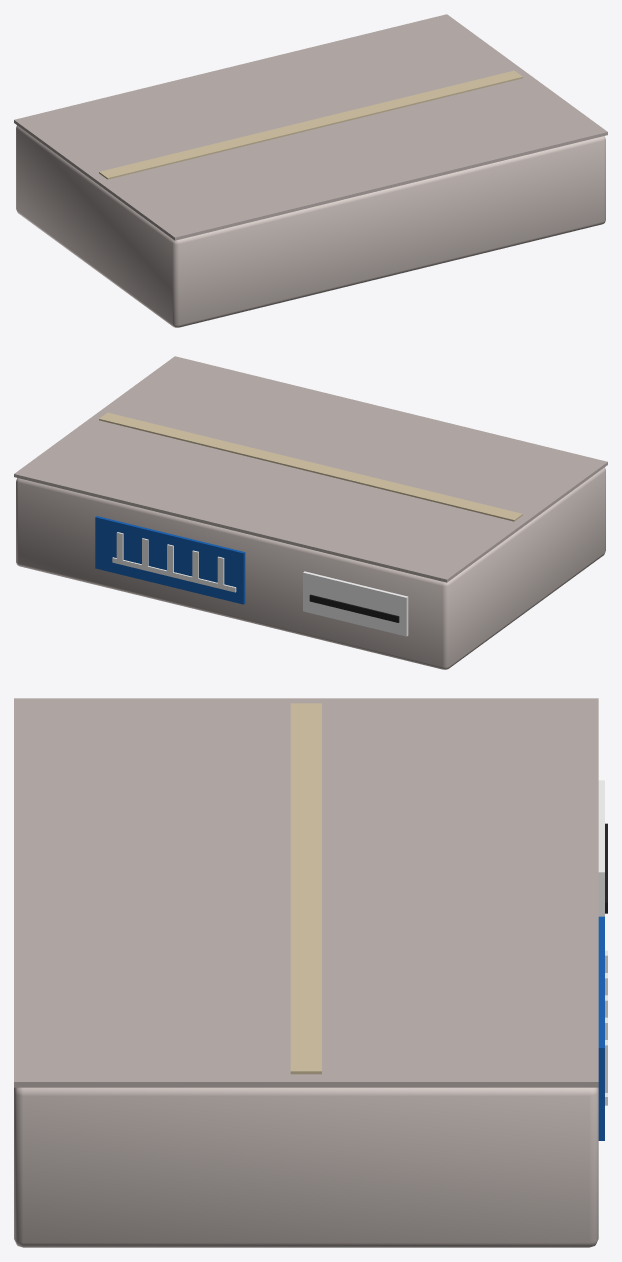
File: crib_flatpack.fbx
The picture shows the model from 3 angles, top to bottom: view 1: azimuth 30°, elevation 25°; view 2: azimuth 150°, elevation 25°; view 3: azimuth 270°, elevation 25°; orthographic projection. The views are drawn at different scales.
Parts seen in each view (by area): view 1: Flat-Pack Crib; view 2: Flat-Pack Crib; view 3: Flat-Pack Crib.
Boxes of the visible parts, x1,y1,x2,y2 form: Flat-Pack Crib: [14, 14, 607, 327]; Flat-Pack Crib: [14, 356, 607, 669]; Flat-Pack Crib: [14, 698, 607, 1247].
Bounding box in the file's own units: 2.92 × 0.61 × 1.91.
